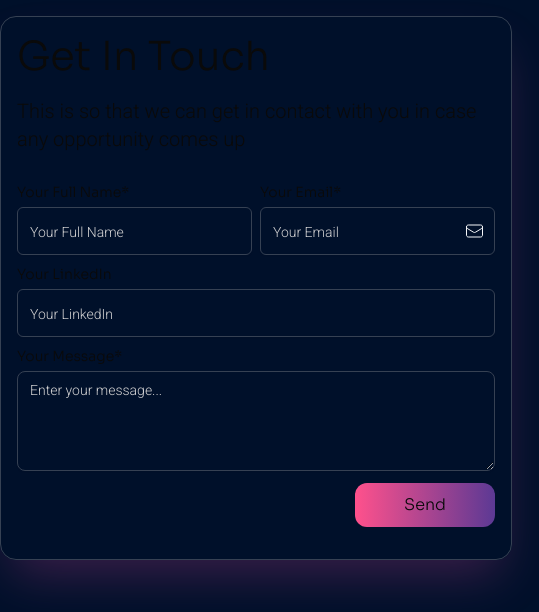
Scenario: ContactForm › should show error message when an error occurs
Type "Jane Doe" into the field labelled "Your Full Name*".
click(134, 231); type("Jane Doe")  # box [17,207,252,255]
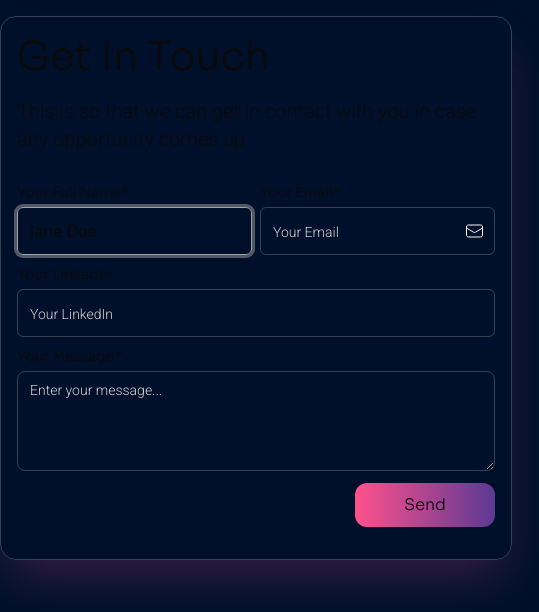
Type "email@example.com" into the field labelled "Your Email*".
click(378, 231); type("email@example.com")  # box [260,207,495,255]
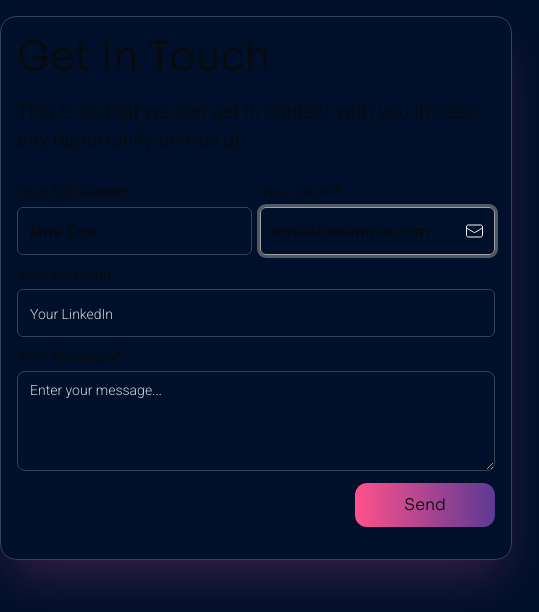
Type "Hello World!" into the text box labelled "Your Message*".
click(256, 421); type("Hello World!")  # box [17,371,495,471]
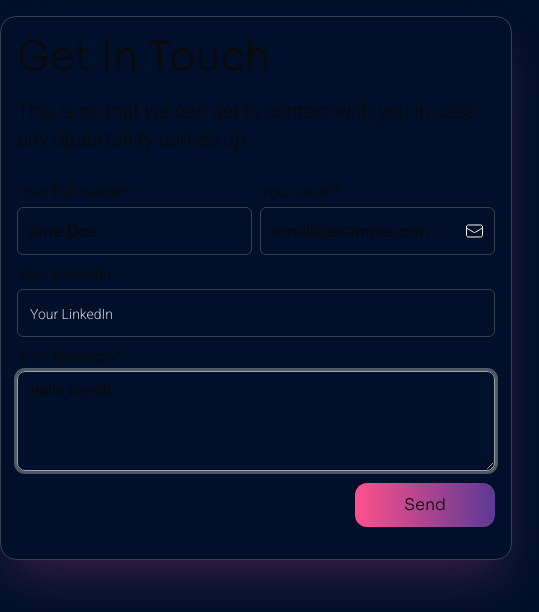
Click the button.
click(425, 505)  # box [355,483,495,527]
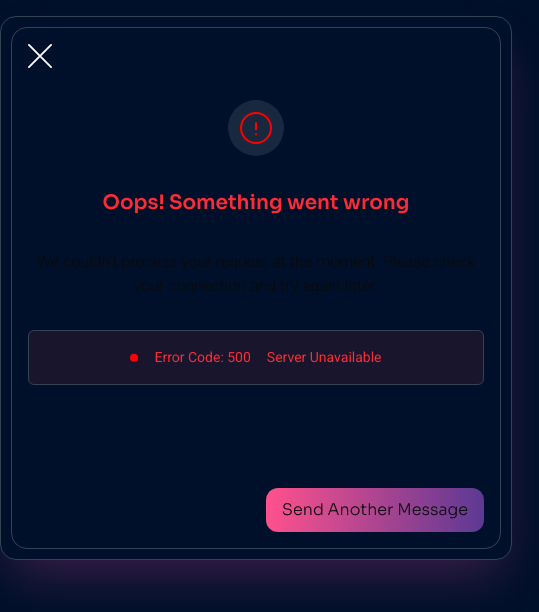
expect the heading "Oops! Something went wrong" is shown: met, box [103,188,409,218]
expect the text "We couldn't process your request at the moment. Please check your connection and try again later." is shown: met, box [37,252,475,295]
